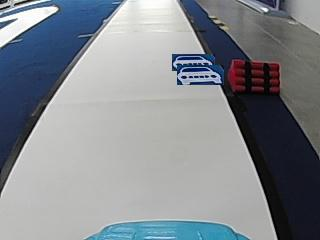bomb: (230, 61, 282, 93)
